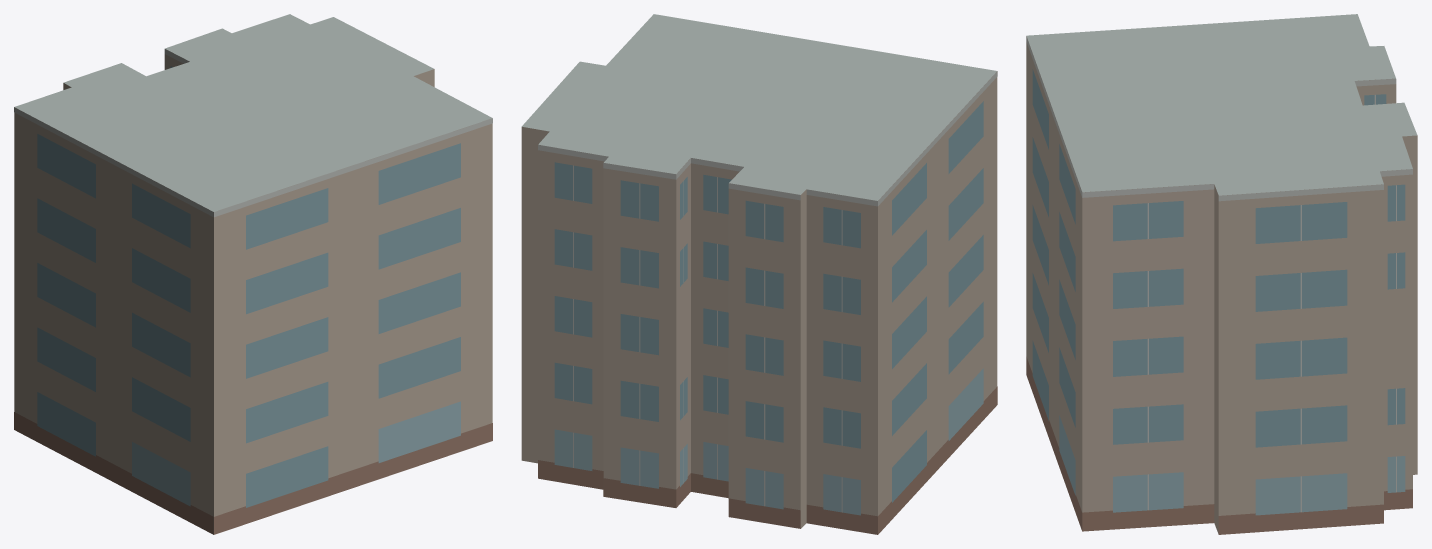
File: survey-upis-32985885.glb
The picture shows the model from 3 angles, left to right: view 1: azimuth 30°, elevation 25°; view 2: azimuth 150°, elevation 25°; view 3: azimuth 270°, elevation 25°; orthographic projection. The views are drawn at different scales.
Parts seen in each view (by area): view 1: survey-upis-32985885.tmp; view 2: survey-upis-32985885.tmp; view 3: survey-upis-32985885.tmp.
Part boxes in pixels (x1,y1,x2,y2): survey-upis-32985885.tmp: [14, 14, 492, 534]; survey-upis-32985885.tmp: [521, 14, 997, 534]; survey-upis-32985885.tmp: [1026, 14, 1417, 534].
Size of the model in its own units: 17.01 by 14.8 by 15.48.
